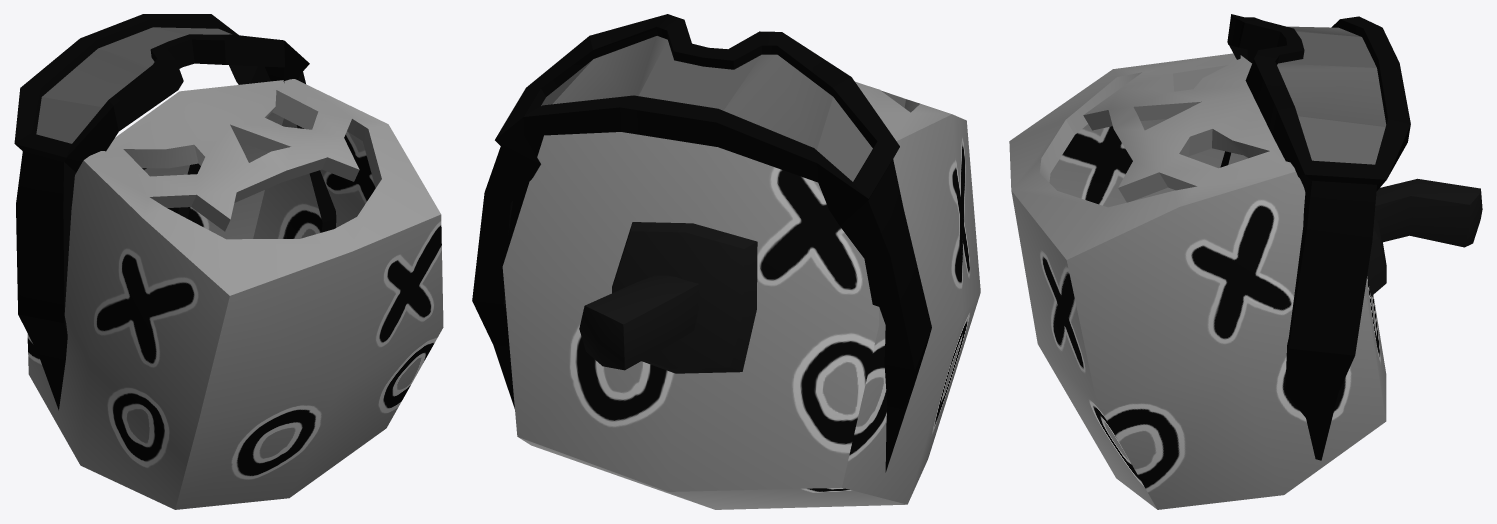
Rendered from 南瓜炸弹.FBX.
3 renders of one model, left to right at view 1: azimuth 30°, elevation 25°; view 2: azimuth 150°, elevation 25°; view 3: azimuth 270°, elevation 25°, orthographic. The views are drawn at different scales.
Parts seen in each view (by area): view 1: node_id6, node_id4; view 2: node_id6, node_id4; view 3: node_id6, node_id4.
Part boxes in pixels (x1,y1,x2,y2): node_id6: (27,79,443,509); node_id4: (14,14,336,410); node_id6: (502,81,980,509); node_id4: (472,14,931,472); node_id6: (1009,53,1482,509); node_id4: (1220,14,1410,460).
Bounding box in the file's own units: 0.5276 × 0.6013 × 0.6004.
